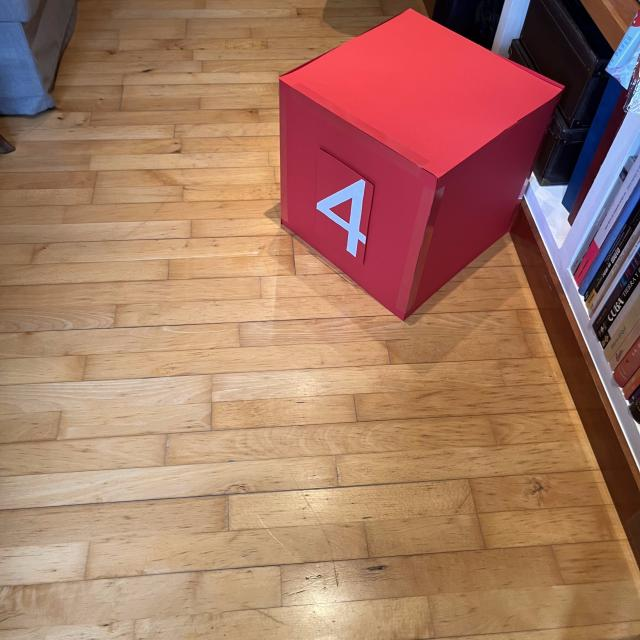box: (275, 7, 565, 322)
